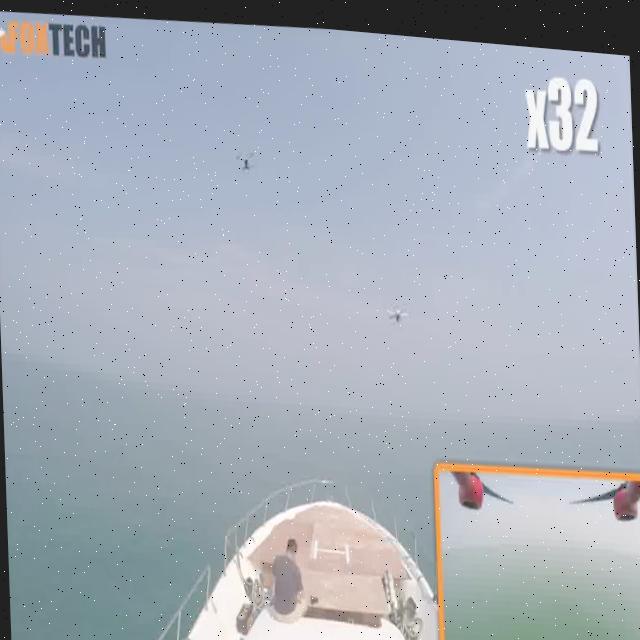drone: (378, 287, 418, 323), (232, 132, 260, 177)
